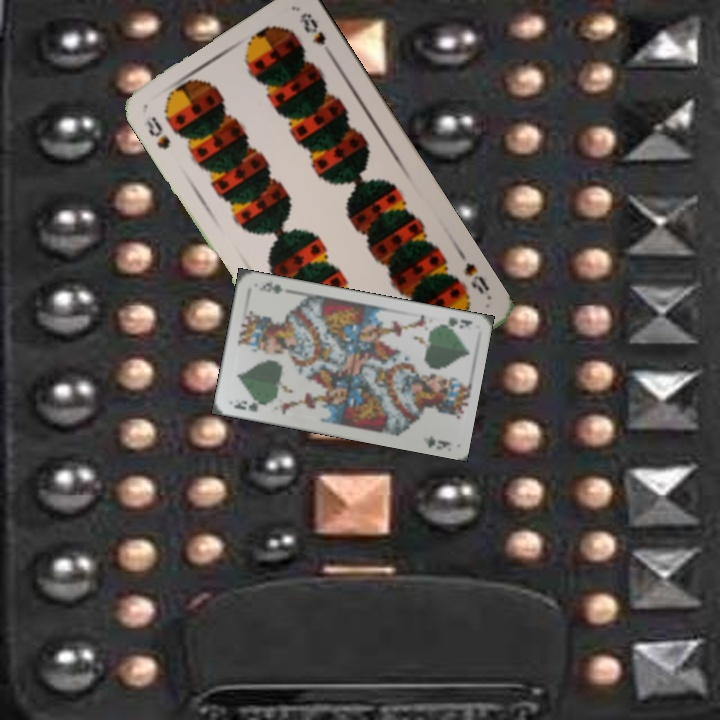GK: (435, 313, 475, 332), (230, 397, 261, 415)
S8: (141, 111, 173, 152), (460, 258, 492, 298)
